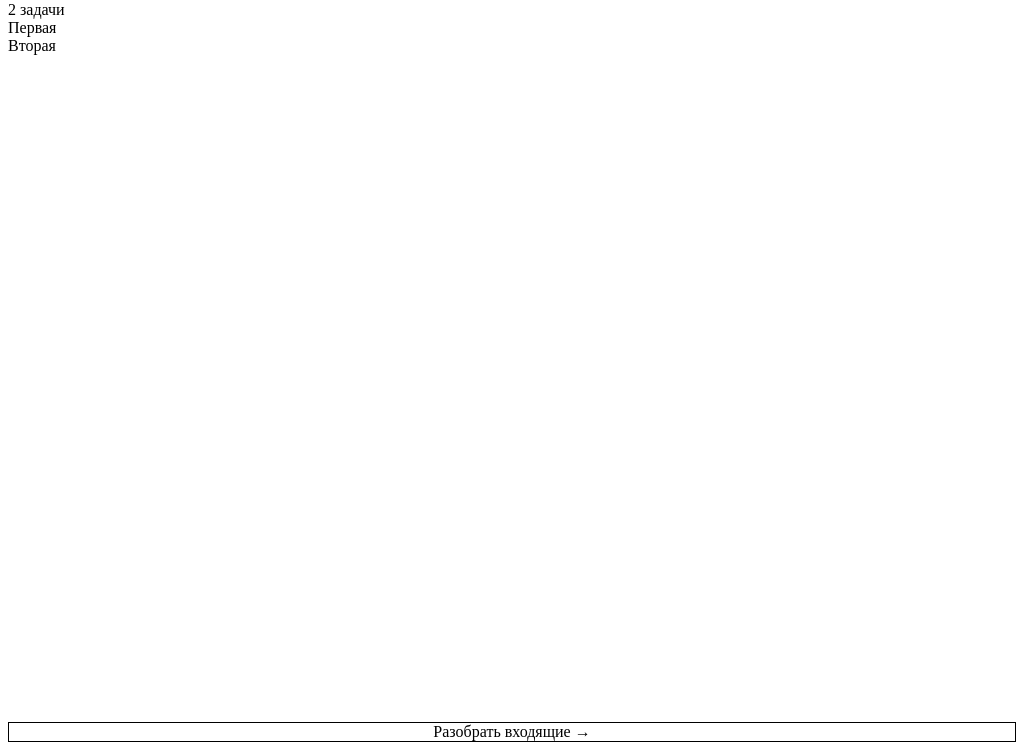
it: Inbox — действия карточки › «Пропустить» НЕ вызывает команду — задача остаётся inbox, фокус переходит к следующей карточке
(page scrolled)
Click the button "Разобрать входящие →". click: (512, 732)
box: left=8, top=722, right=1016, bottom=742
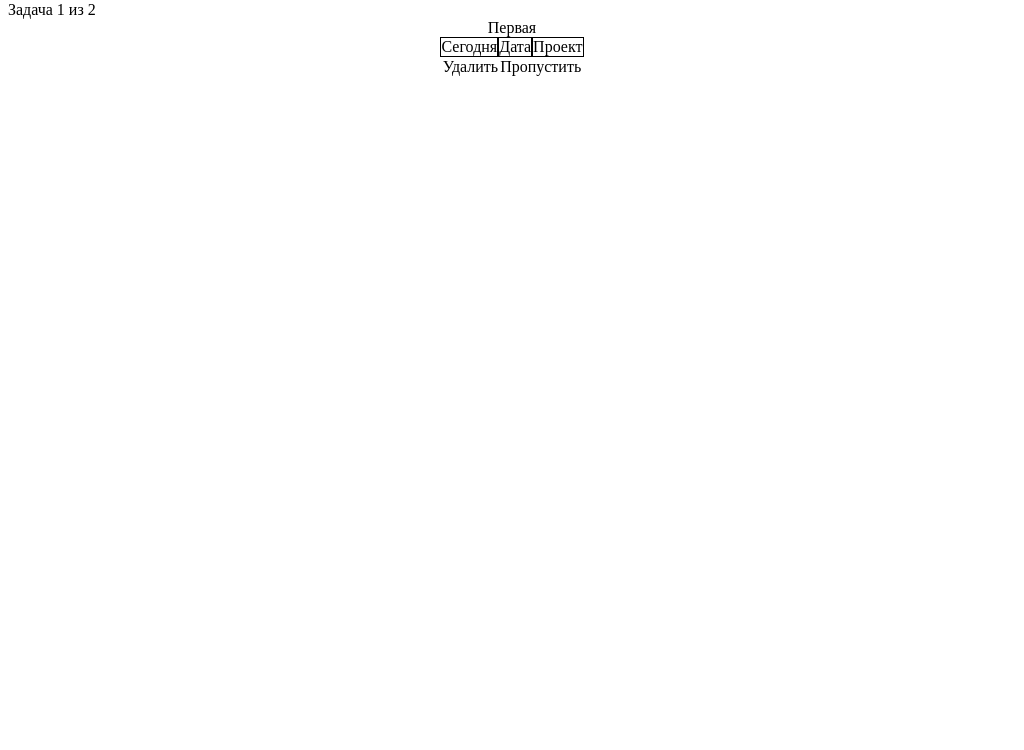
Expected: the text "Первая" is shown, left=488, top=19, right=536, bottom=36
Now the text "Вторая" is gone
Click the button "Пропустить". click: (541, 67)
box: left=499, top=57, right=582, bottom=77
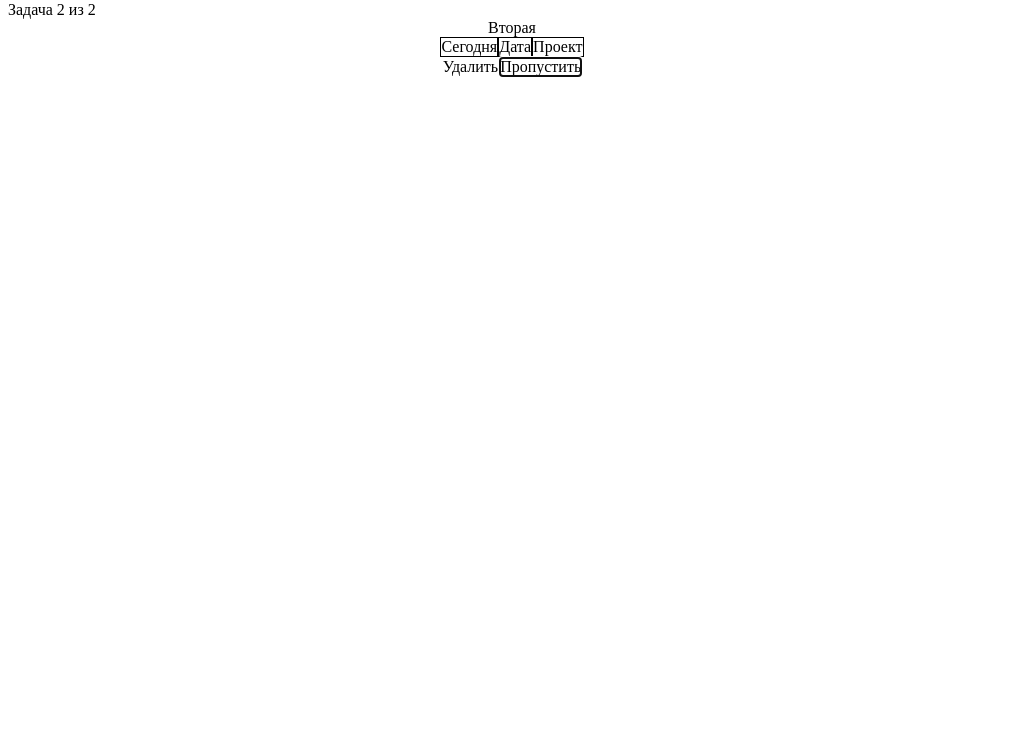
Now the text "Вторая" is shown, box left=488, top=19, right=536, bottom=36
Now the text "Первая" is gone
